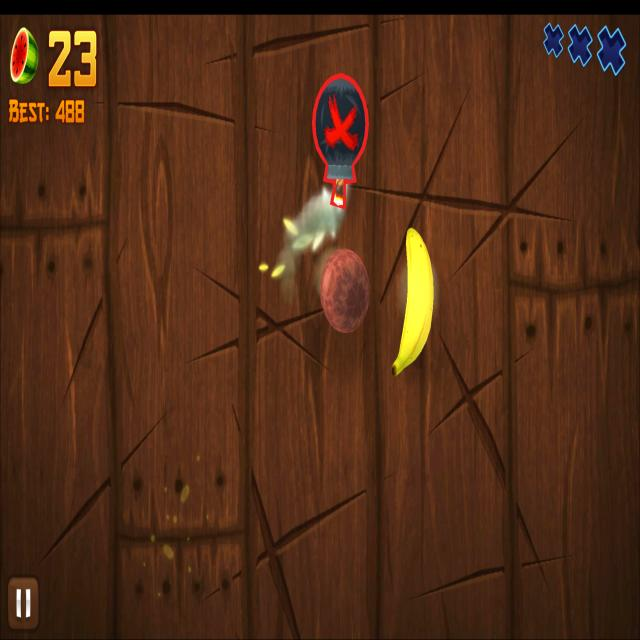bomb: (310, 72, 371, 211)
fruit: (394, 228, 434, 377), (320, 247, 370, 335)
